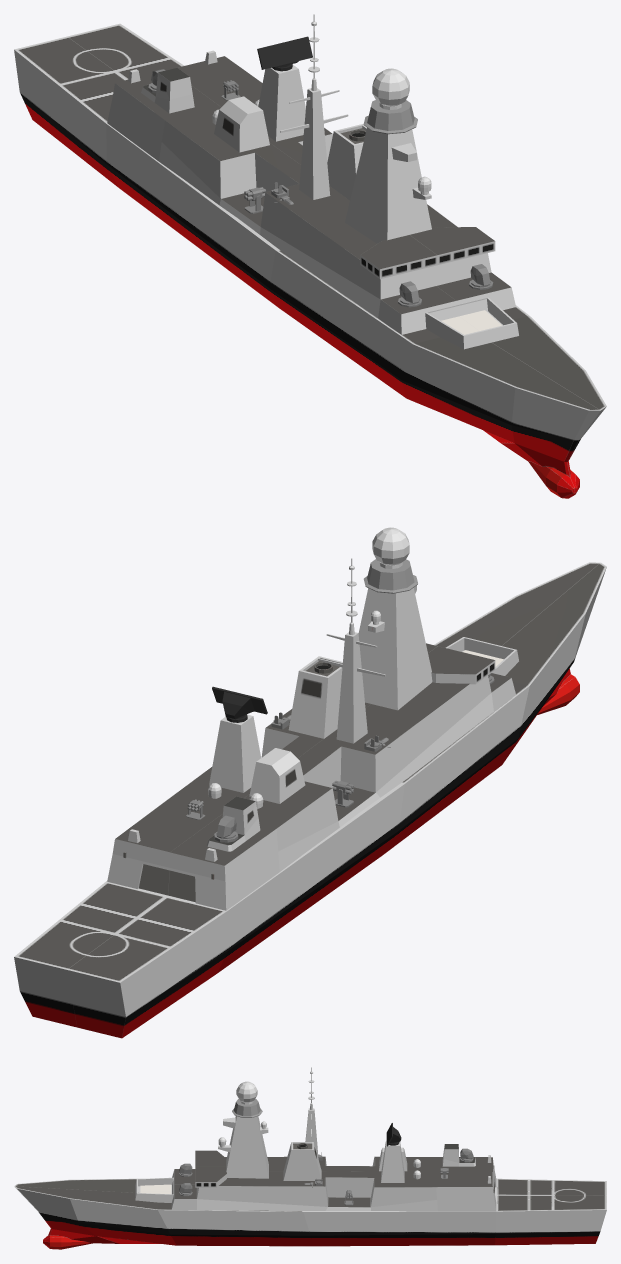
Rendered from S5_klein.fbx.
3 views of the same model, one above another, from view 1: azimuth 30°, elevation 25°; view 2: azimuth 150°, elevation 25°; view 3: azimuth 270°, elevation 25° (orthographic). The views are drawn at different scales.
Visible parts, largest first — view 1: Cube, Cylinder.002, Cube.001; view 2: Cube, Cylinder.002, Cube.001; view 3: Cube, Cylinder.002.
Boxes of the visible parts, <box> form: Cube: <box>14,14,606,498</box>; Cylinder.002: <box>212,68,431,194</box>; Cube.001: <box>257,36,312,69</box>; Cube: <box>14,558,606,1038</box>; Cylinder.002: <box>208,527,417,808</box>; Cube.001: <box>212,686,267,718</box>; Cube: <box>14,1067,606,1249</box>; Cylinder.002: <box>218,1081,420,1179</box>.
Bounding box in the file's own units: 0.0337 × 0.0794 × 0.2417.
5 materials, 1 textured.
